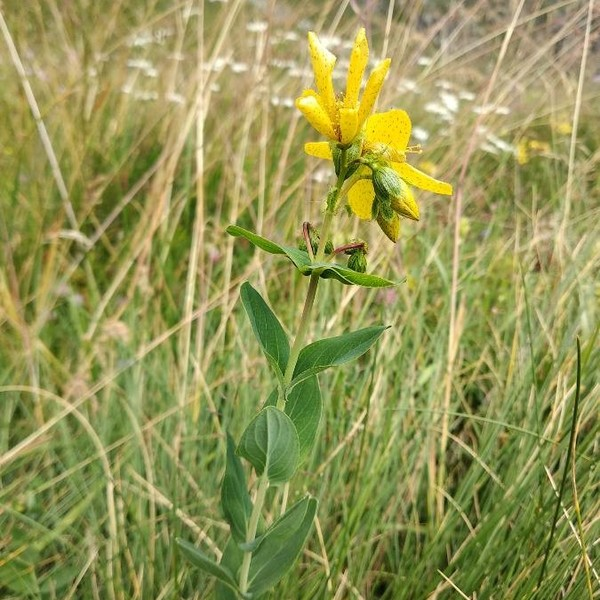obstacle: (224, 46, 451, 575)
